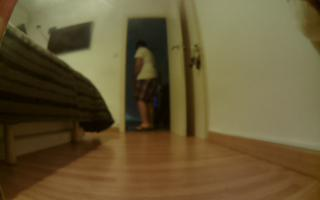person: (130, 37, 163, 134)
